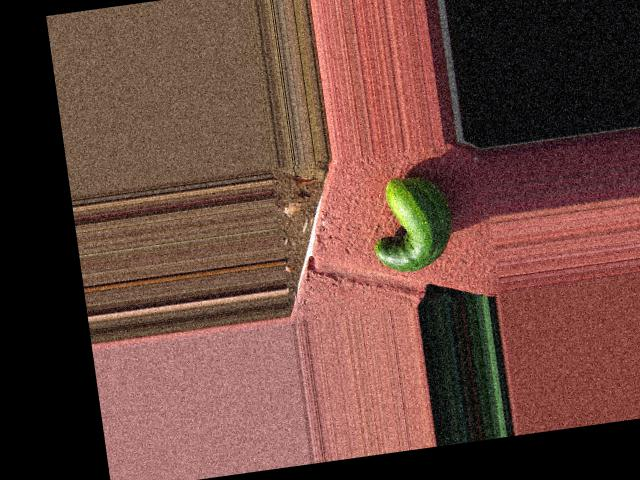cucumber: (364, 171, 456, 275)
